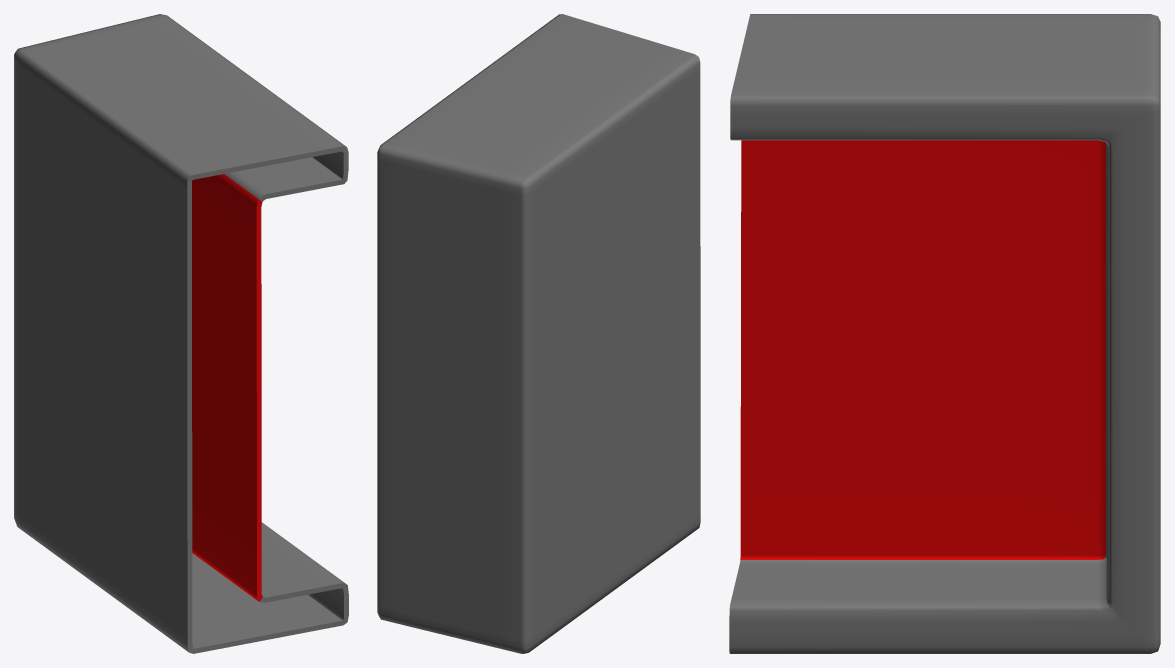
File: Door01_BrokenSide01_10 1.fbx
3 renders of one model, left to right at view 1: azimuth 30°, elevation 25°; view 2: azimuth 150°, elevation 25°; view 3: azimuth 270°, elevation 25°, orthographic. The views are drawn at different scales.
Parts seen in each view (by area): view 1: polySurface214; view 2: polySurface214; view 3: polySurface214.
Boxes of the visible parts, x1,y1,x2,y2 form: polySurface214: (14,14,348,653); polySurface214: (377,14,700,653); polySurface214: (729,14,1160,653).
Bounding box in the file's own units: 5 × 15 × 10.49.
